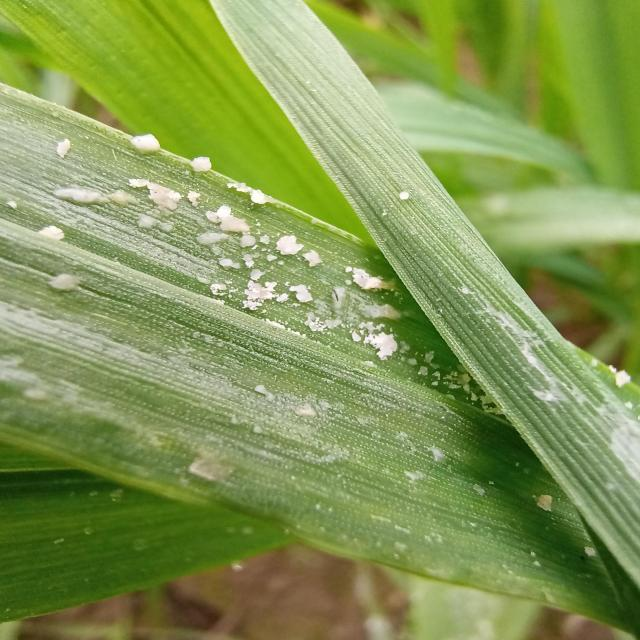Powdery_Mildew: (8, 104, 640, 481)
